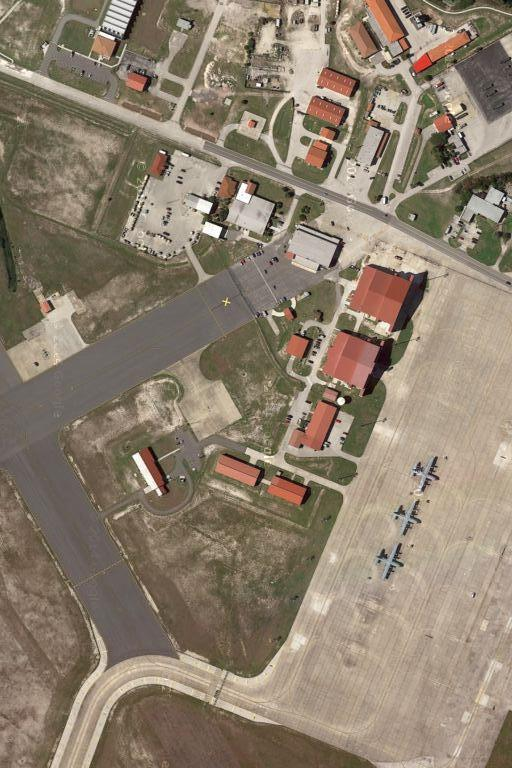C-130: (392, 496, 428, 539), (373, 542, 409, 581), (411, 453, 444, 495)
